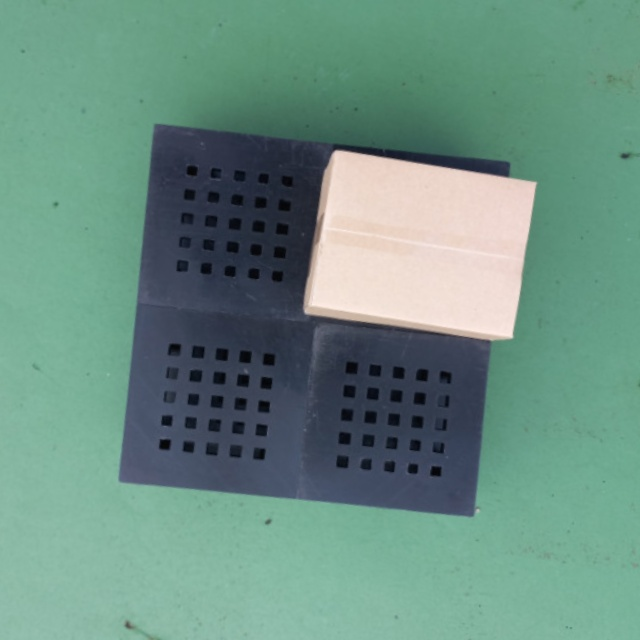box: (304, 144, 539, 345)
pallet: (111, 116, 548, 527)
